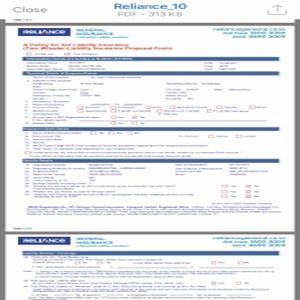image: (211, 26, 288, 41), (15, 27, 73, 38), (15, 235, 73, 246)
text: (25, 75, 271, 125), (24, 256, 280, 300), (24, 130, 256, 157), (25, 60, 242, 71), (211, 234, 288, 250)
